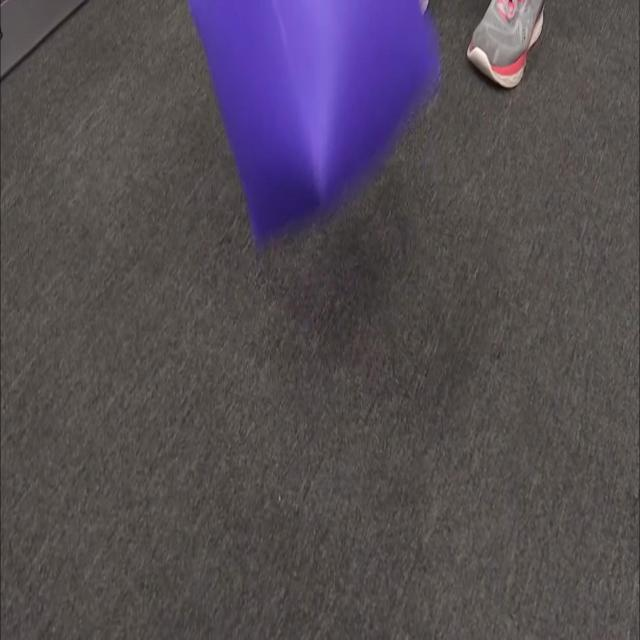frc_cube: (180, 0, 441, 262)
